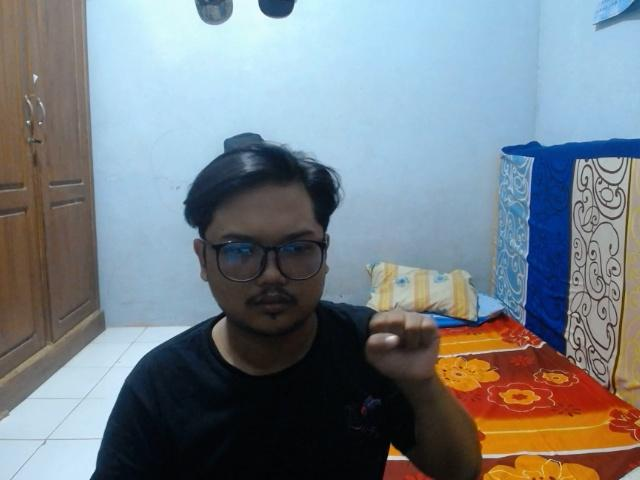Grab: (359, 303, 446, 389)
